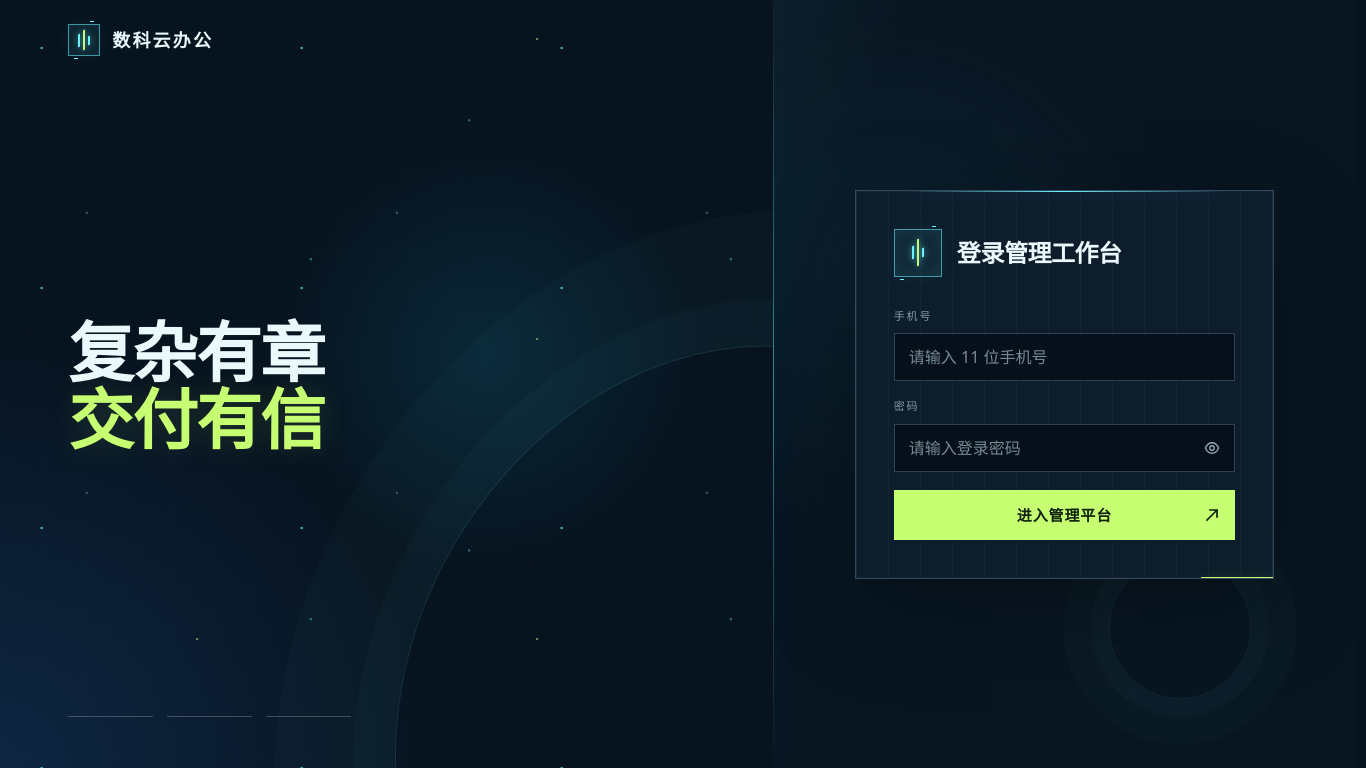
Scenario: LoginPage CTA › holds the verification state for slow responses and still shows success before navigating
Type "13800138000" into the field labelled "手机号" at point(1064, 357), box [894,333,1235,381]
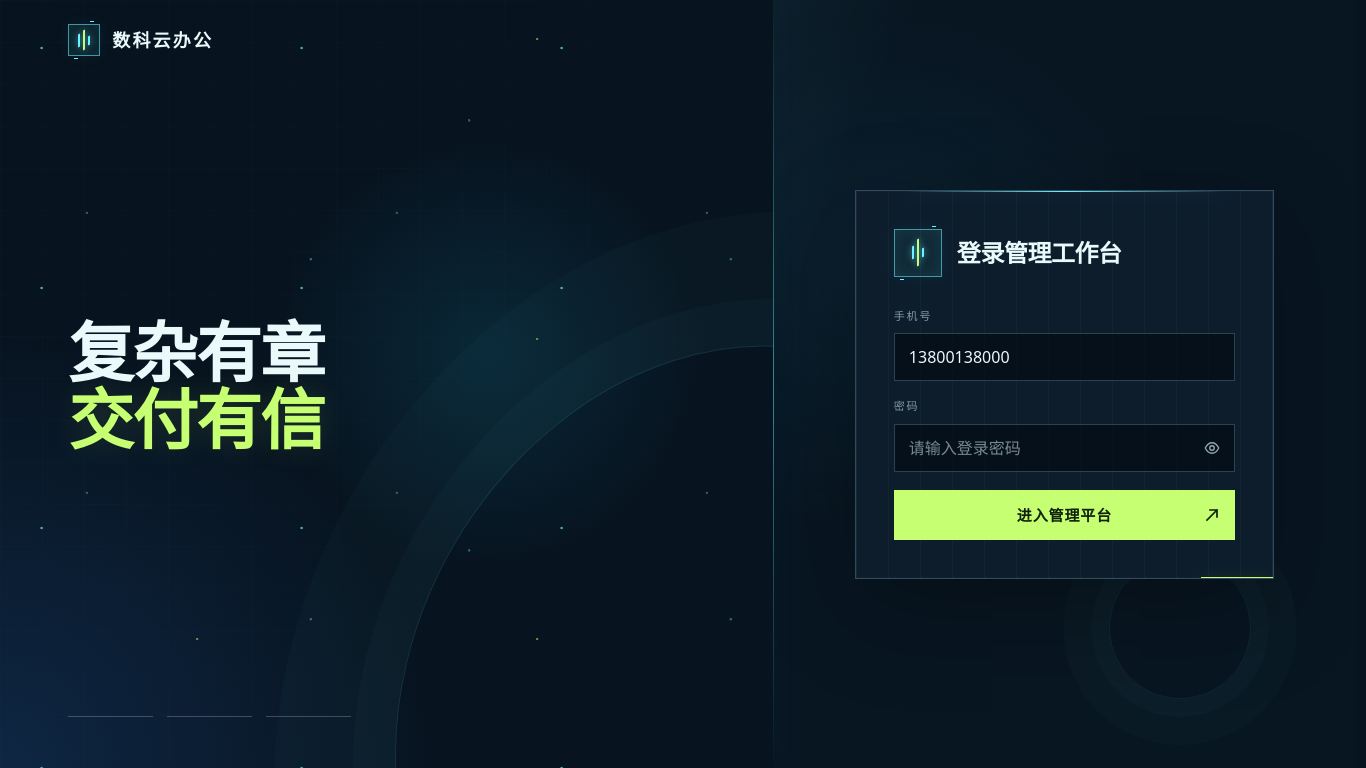
Type "secret" into the password field labelled "密码" at point(1064, 448), box [894,424,1235,472]
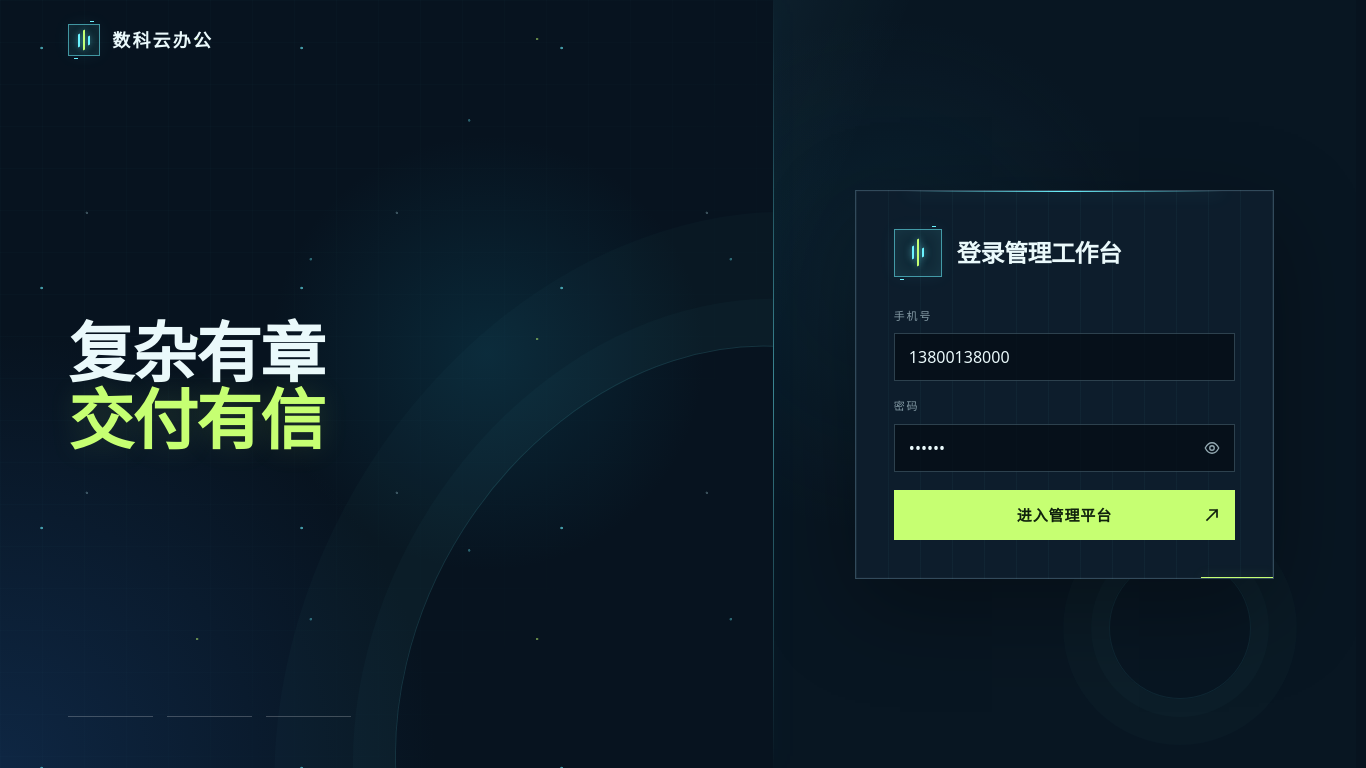
Submit the form labelled "手机号", box [894,308,1235,540]
Wait 850 ms
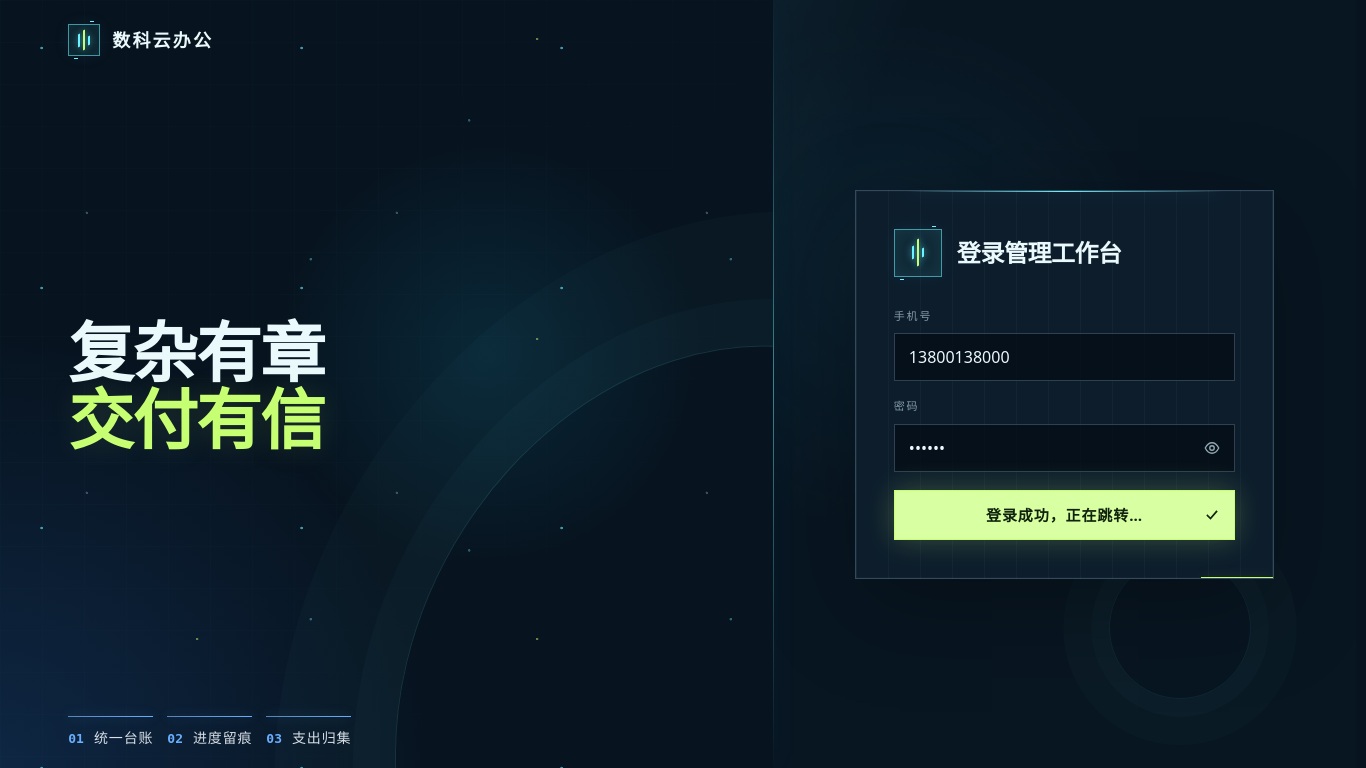
Check: the button "登录成功，正在跳转…" is shown, box [894,490,1235,540]
